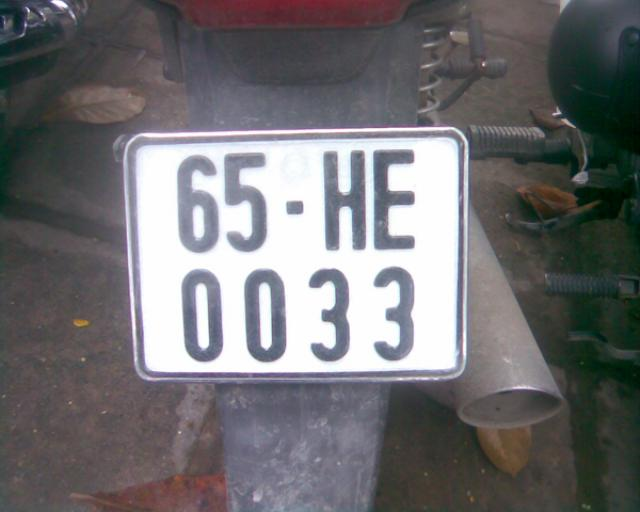plate: (121, 128, 462, 378)
